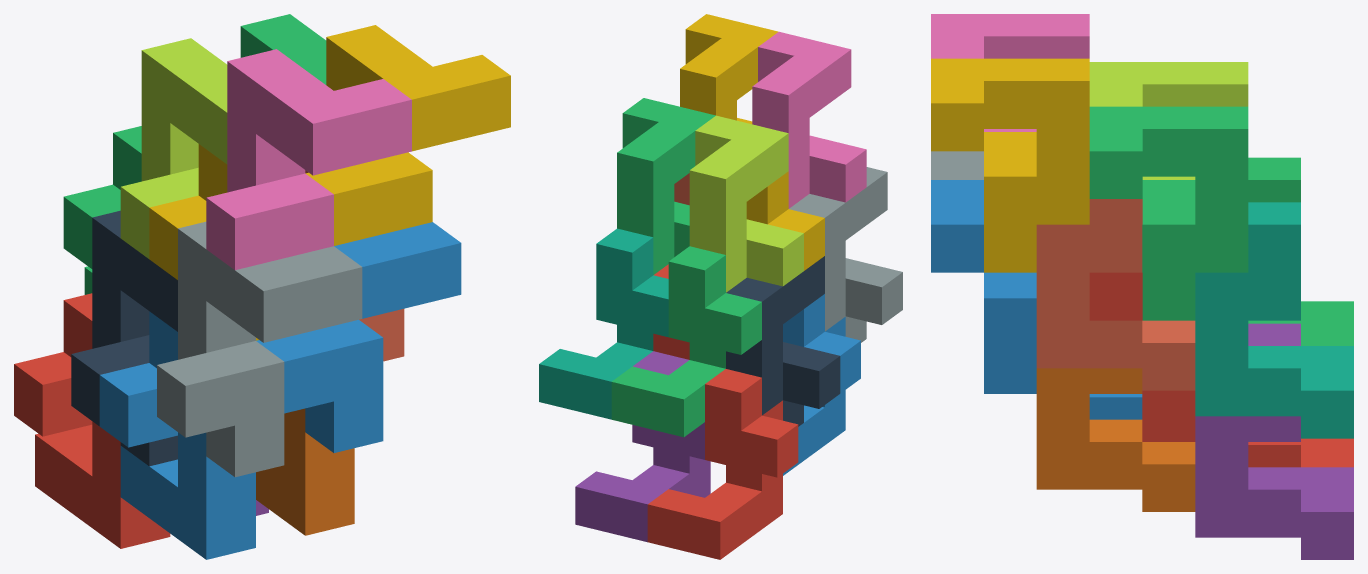
Rendered from tiling.obj.
The picture shows the model from 3 angles, left to right: view 1: azimuth 30°, elevation 25°; view 2: azimuth 150°, elevation 25°; view 3: azimuth 270°, elevation 25°; orthographic projection. The views are drawn at different scales.
Parts seen in each view (by area): view 1: copy_2_domain_2, copy_2_domain_4, copy_2_domain_8, copy_2_domain_6, copy_1_domain_2, copy_1_domain_1, copy_2_domain_3, copy_2_domain_1, copy_1_domain_6, copy_1_domain_3, copy_1_domain_4, copy_2_domain_7 (+1 smaller); view 2: copy_1_domain_1, copy_1_domain_3, copy_2_domain_3, copy_2_domain_4, copy_1_domain_7, copy_2_domain_7, copy_2_domain_1, copy_1_domain_5, copy_2_domain_2, copy_2_domain_8, copy_1_domain_2, copy_1_domain_4 (+1 smaller); view 3: copy_2_domain_7, copy_2_domain_8, copy_1_domain_7, copy_1_domain_8, copy_1_domain_5, copy_1_domain_6, copy_2_domain_6, copy_2_domain_3, copy_2_domain_4, copy_2_domain_5, copy_1_domain_3, copy_1_domain_1 (+2 smaller).
Part boxes in pixels (<box>): copy_2_domain_2: <box>157,221,362,477</box>; copy_2_domain_4: <box>206,49,411,270</box>; copy_2_domain_8: <box>305,25,510,245</box>; copy_2_domain_6: <box>256,222,461,452</box>; copy_1_domain_2: <box>99,311,255,559</box>; copy_1_domain_1: <box>14,293,170,548</box>; copy_2_domain_3: <box>120,38,227,258</box>; copy_2_domain_1: <box>71,210,177,466</box>; copy_1_domain_6: <box>256,408,354,535</box>; copy_1_domain_3: <box>63,126,141,294</box>; copy_1_domain_4: <box>149,144,258,340</box>; copy_2_domain_7: <box>240,14,326,84</box>; copy_1_domain_1: <box>647,369,798,559</box>; copy_1_domain_3: <box>611,246,761,437</box>; copy_2_domain_3: <box>689,115,803,292</box>; copy_2_domain_4: <box>752,31,866,208</box>; copy_1_domain_7: <box>539,228,668,419</box>; copy_2_domain_7: <box>617,98,715,274</box>; copy_2_domain_1: <box>726,256,840,426</box>; copy_1_domain_5: <box>575,351,710,542</box>; copy_2_domain_2: <box>789,167,902,342</box>; copy_2_domain_8: <box>680,14,778,124</box>; copy_1_domain_2: <box>783,294,860,475</box>; copy_1_domain_4: <box>746,171,824,270</box>; copy_2_domain_7: <box>1089,106,1248,320</box>; copy_2_domain_8: <box>931,58,1089,272</box>; copy_1_domain_7: <box>1195,202,1353,438</box>; copy_1_domain_8: <box>1036,199,1195,390</box>; copy_1_domain_5: <box>1195,323,1353,559</box>; copy_1_domain_6: <box>1036,368,1195,511</box>; copy_2_domain_6: <box>931,180,1036,393</box>; copy_2_domain_3: <box>1089,62,1248,179</box>; copy_2_domain_4: <box>931,14,1089,131</box>; copy_2_domain_5: <box>1089,272,1195,441</box>; copy_1_domain_3: <box>1248,157,1353,345</box>; copy_1_domain_1: <box>1248,438,1353,467</box>.
Size of the model in its own units: 6 by 10 by 8.
